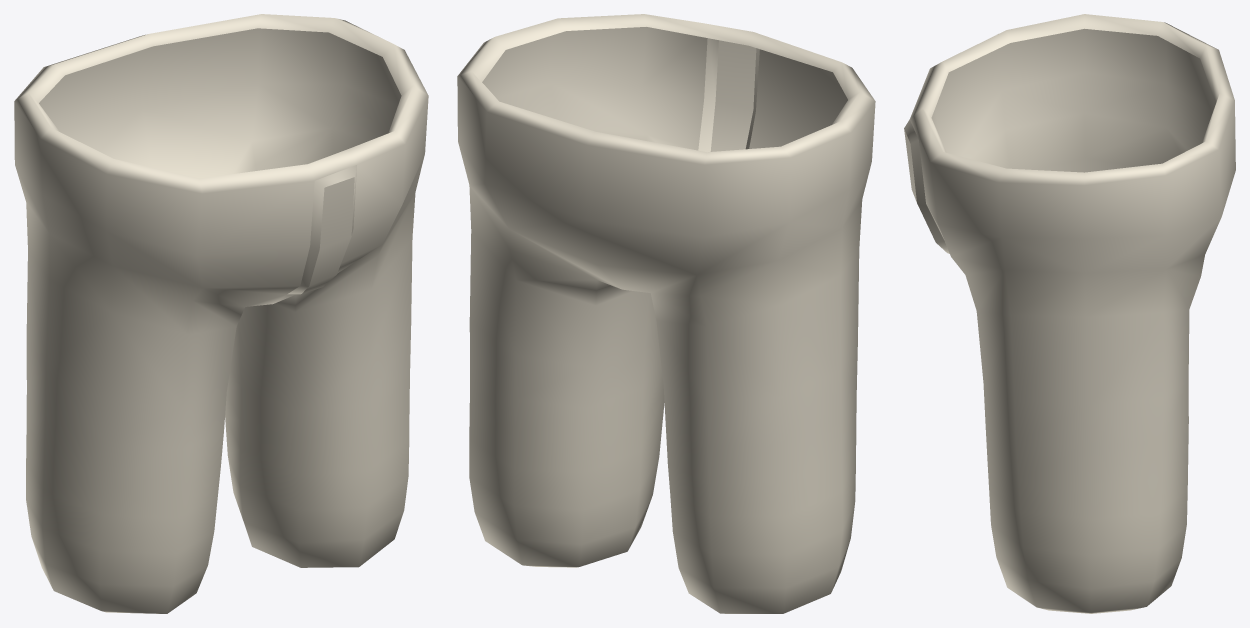
File: Bottom_35.fbx
The picture shows the model from 3 angles, left to right: view 1: azimuth 30°, elevation 25°; view 2: azimuth 150°, elevation 25°; view 3: azimuth 270°, elevation 25°; orthographic projection. The views are drawn at different scales.
Parts seen in each view (by area): view 1: Bottom_35; view 2: Bottom_35; view 3: Bottom_35.
Boxes of the visible parts, <box> form: Bottom_35: <box>14,14,428,613</box>; Bottom_35: <box>457,14,875,613</box>; Bottom_35: <box>904,14,1235,613</box>.
Bounding box in the file's own units: 38.42 × 48.68 × 31.97.
